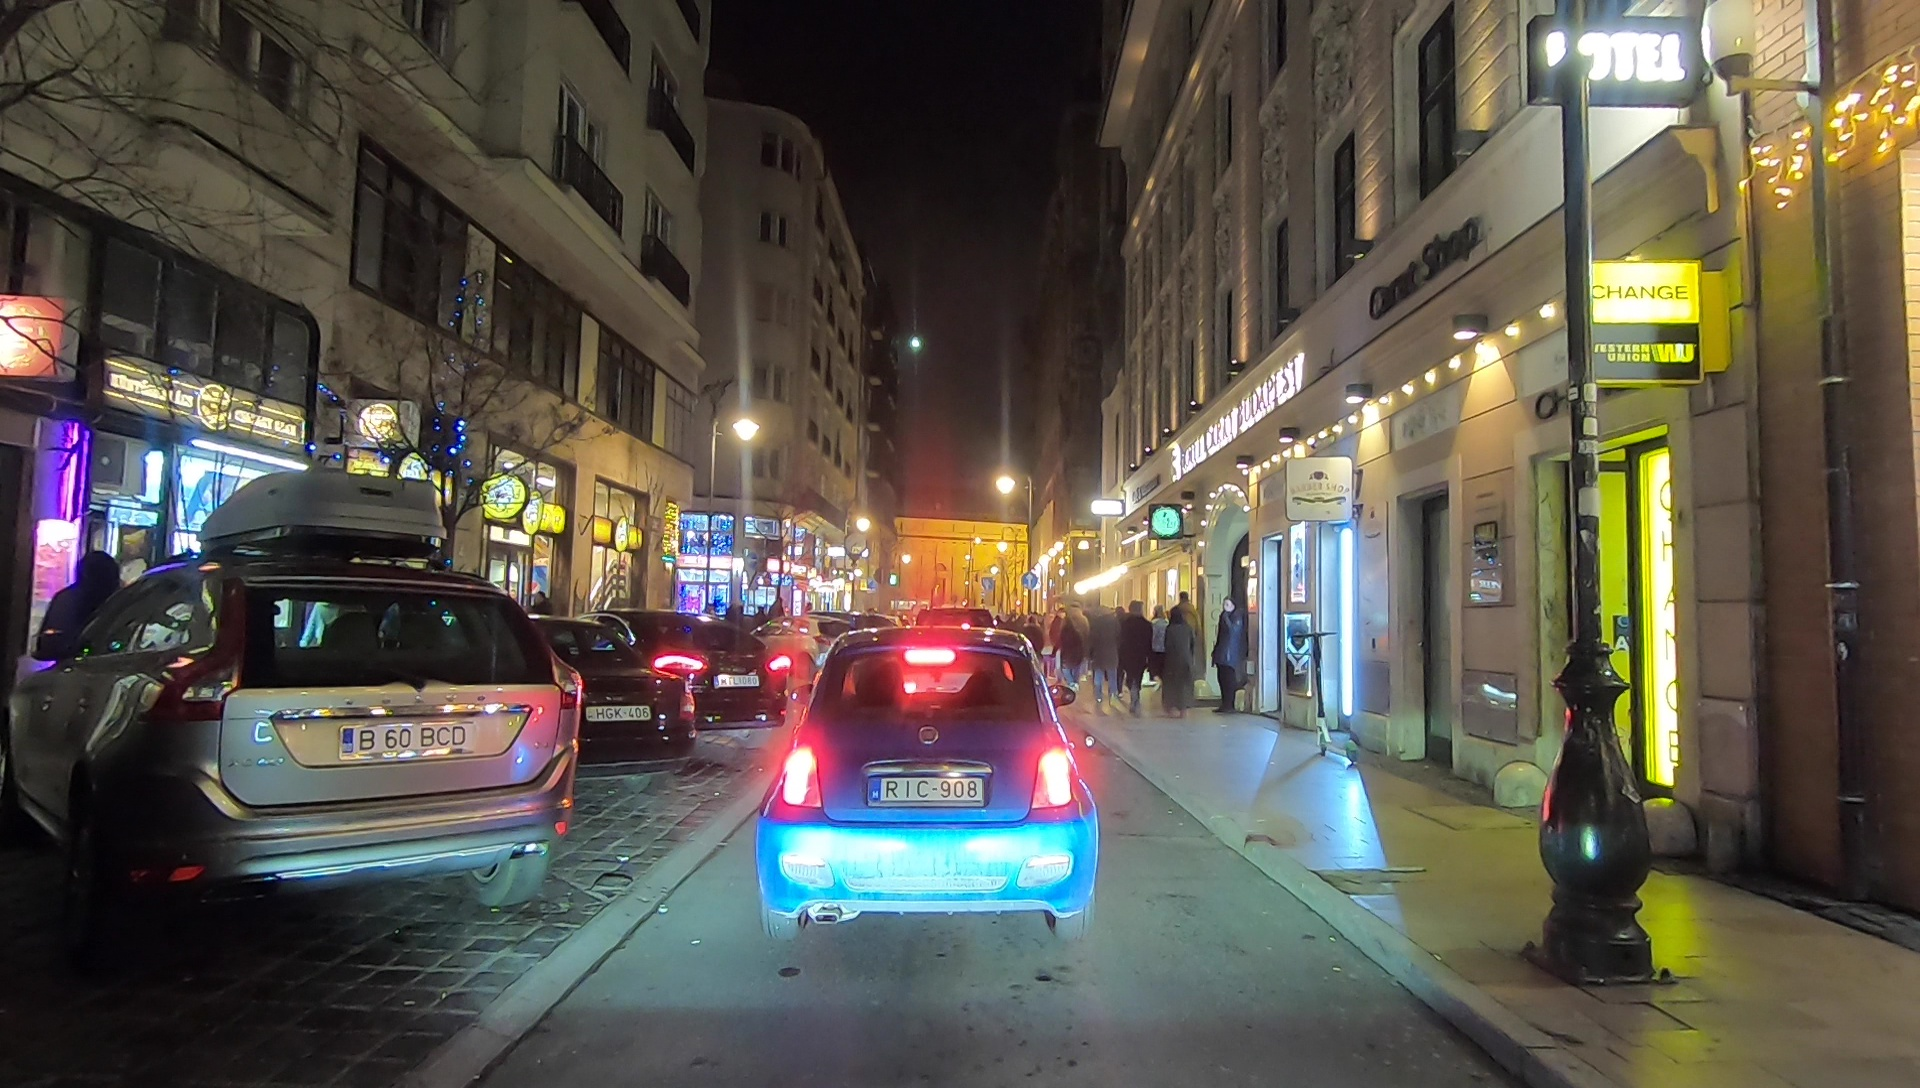person: (1211, 599, 1248, 714), (1119, 602, 1148, 715), (1163, 610, 1194, 714), (1173, 594, 1204, 694), (1094, 606, 1119, 706), (1063, 605, 1087, 692), (1149, 611, 1169, 679), (1022, 619, 1045, 674), (1041, 610, 1058, 679)
